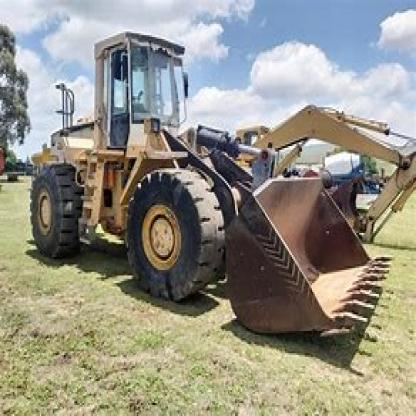bull_dozer/loader/grader: (19, 24, 394, 348)
